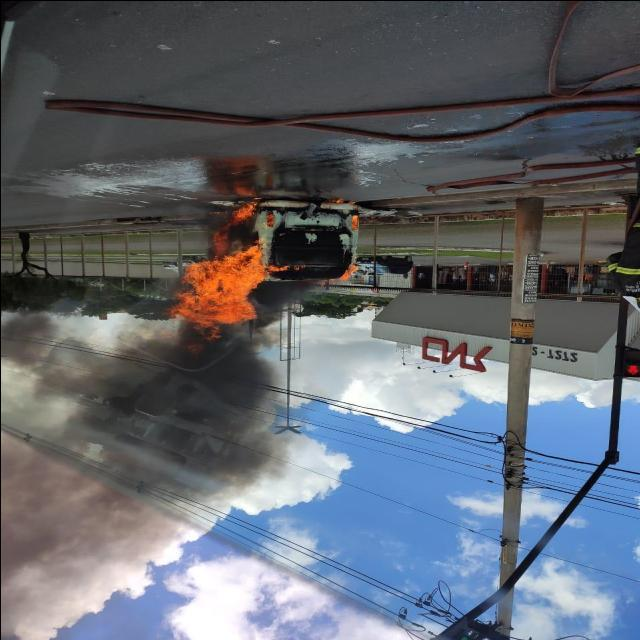Fire: (165, 237, 289, 337), (229, 203, 255, 223), (339, 263, 357, 280), (351, 215, 358, 227)
